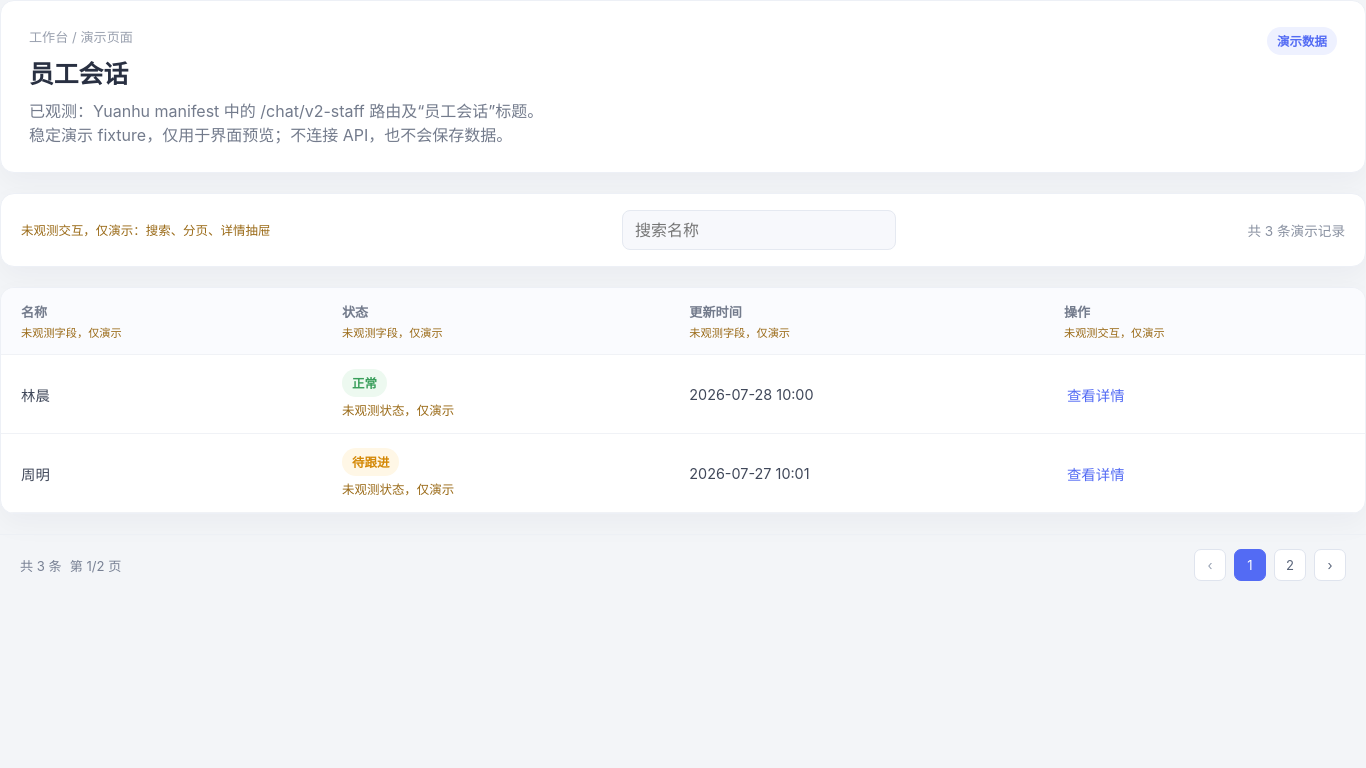
Scenario: DemoPage › shows an empty state when no fixture row matches
This screenshot has width=1366, height=768.
Type "不存在" into the search field named "搜索员工会话".
click(759, 230); type("不存在")  # box [622,210,896,250]
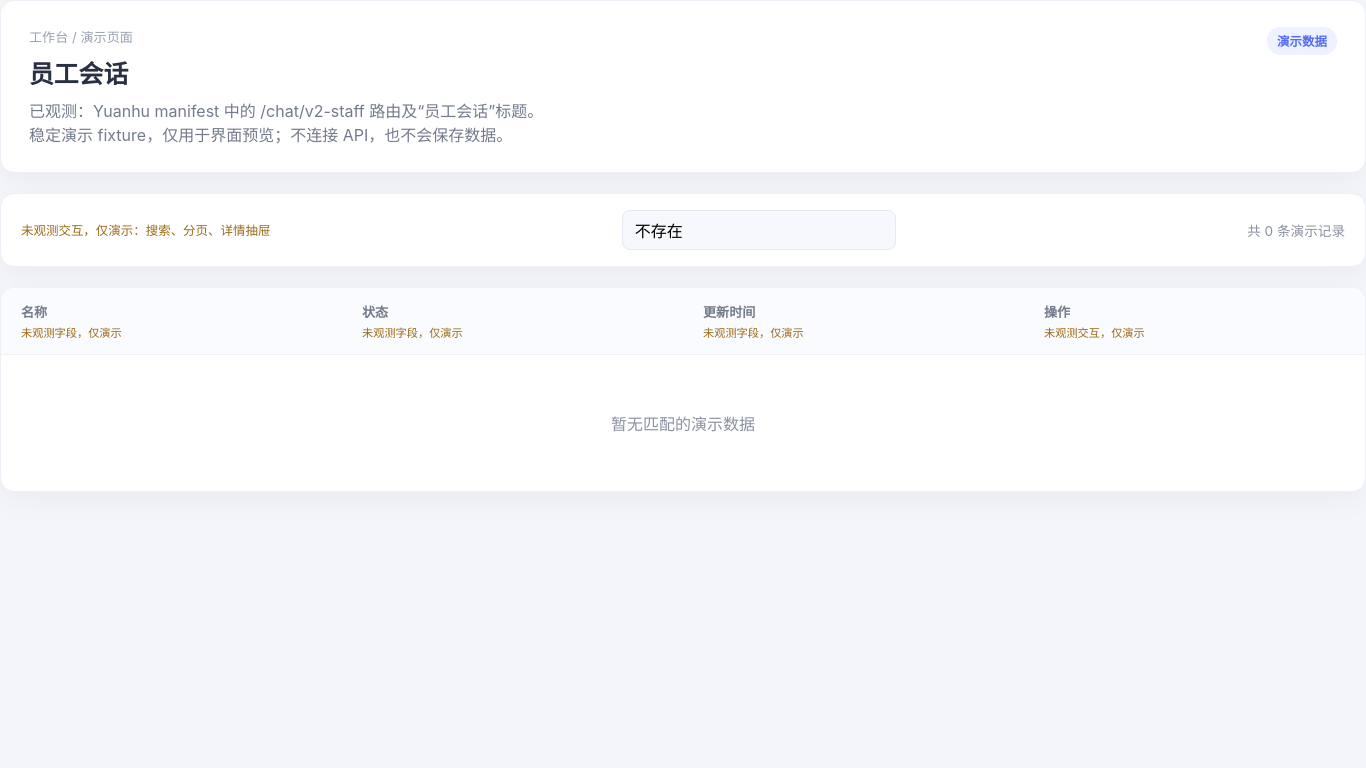
Now the text "暂无匹配的演示数据" is shown, box [611,414,755,434]
